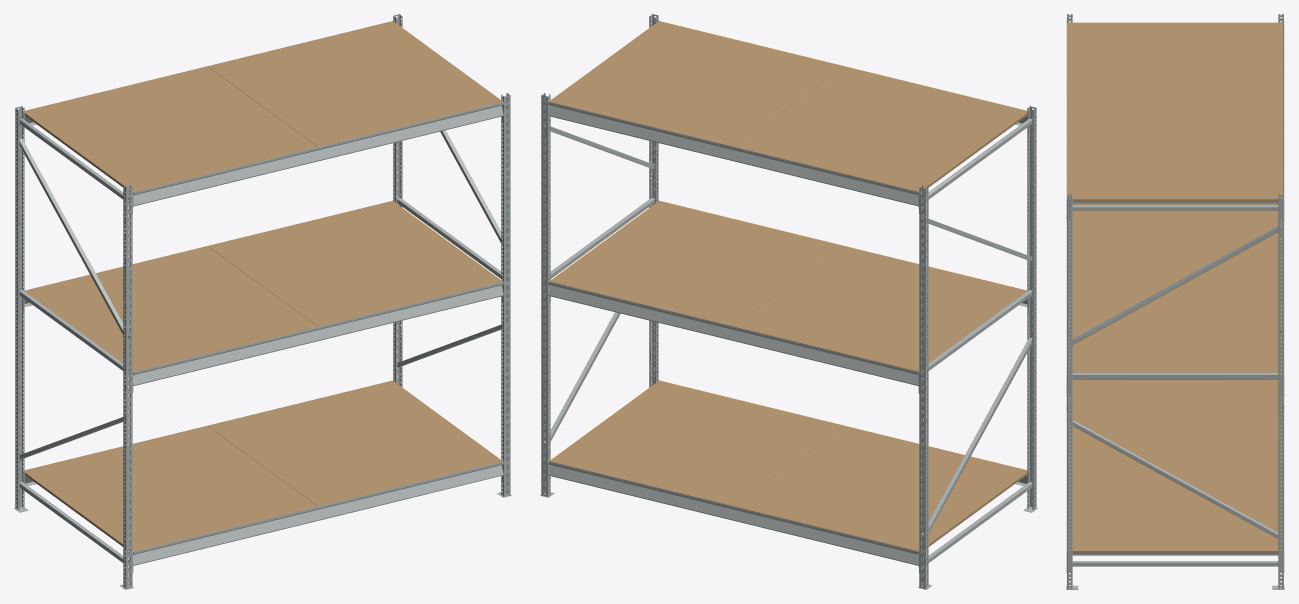
File: rack_bulk_storage_a03.glb
The picture shows the model from 3 angles, left to right: view 1: azimuth 30°, elevation 25°; view 2: azimuth 150°, elevation 25°; view 3: azimuth 270°, elevation 25°; orthographic projection. The views are drawn at different scales.
Bounding box in the file's own units: 2.45 × 2.43 × 1.23.
